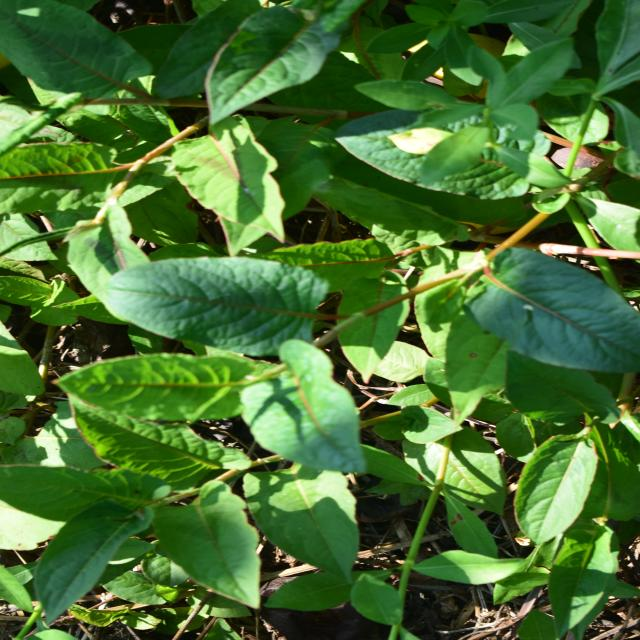Chinese_knotweed: (188, 68, 402, 582), (38, 14, 212, 364)
